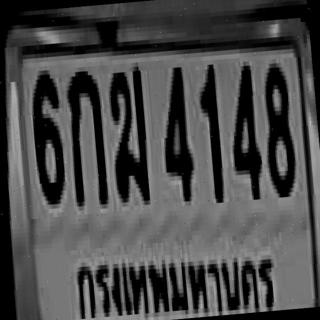A01: (63, 66, 107, 202)
A06: (105, 64, 150, 201)
N01: (195, 60, 223, 199)
N04: (224, 61, 263, 197), (156, 63, 194, 198)
N06: (27, 65, 65, 201)
N08: (258, 58, 296, 194)
P04: (65, 229, 281, 320)
